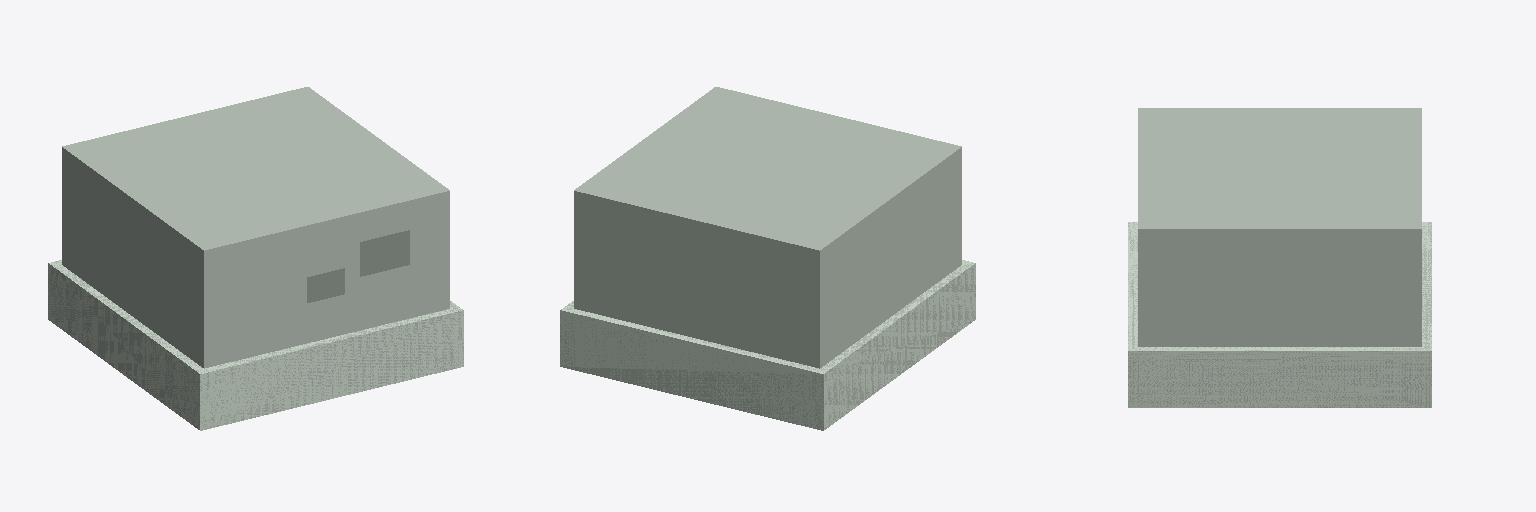
The model's file is tile_019.obj.
3 views of the same model, side by side, from view 1: azimuth 30°, elevation 25°; view 2: azimuth 150°, elevation 25°; view 3: azimuth 270°, elevation 25° (orthographic).
Parts seen in each view (by area): view 1: tile_019; view 2: tile_019; view 3: tile_019.
Boxes of the visible parts, x1=… form: tile_019: x1=48, y1=87, x2=463, y2=430; tile_019: x1=560, y1=87, x2=975, y2=430; tile_019: x1=1128, y1=108, x2=1431, y2=407.
Size of the model in its own units: 0.6301 by 0.4 by 0.6301.